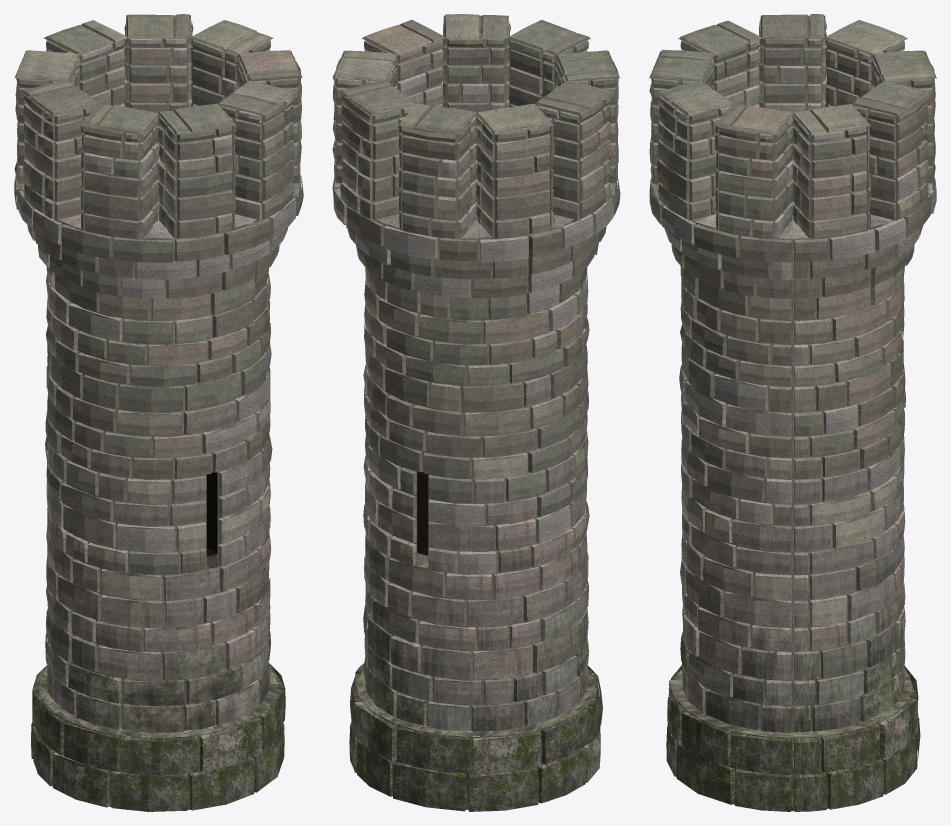
File: town_tower_round_low.glb
3 views of the same model, side by side, from view 1: azimuth 30°, elevation 25°; view 2: azimuth 150°, elevation 25°; view 3: azimuth 270°, elevation 25° (orthographic).
Parts seen in each view (by area): view 1: town_tower_round_low; view 2: town_tower_round_low; view 3: town_tower_round_low.
Part boxes in pixels (bbox=[...]): town_tower_round_low: bbox=[14, 14, 303, 811]; town_tower_round_low: bbox=[332, 14, 620, 811]; town_tower_round_low: bbox=[649, 14, 936, 811].
Bounding box in the file's own units: 3.19 × 8.46 × 3.2.
Materials: 3 (3 with a texture image).
